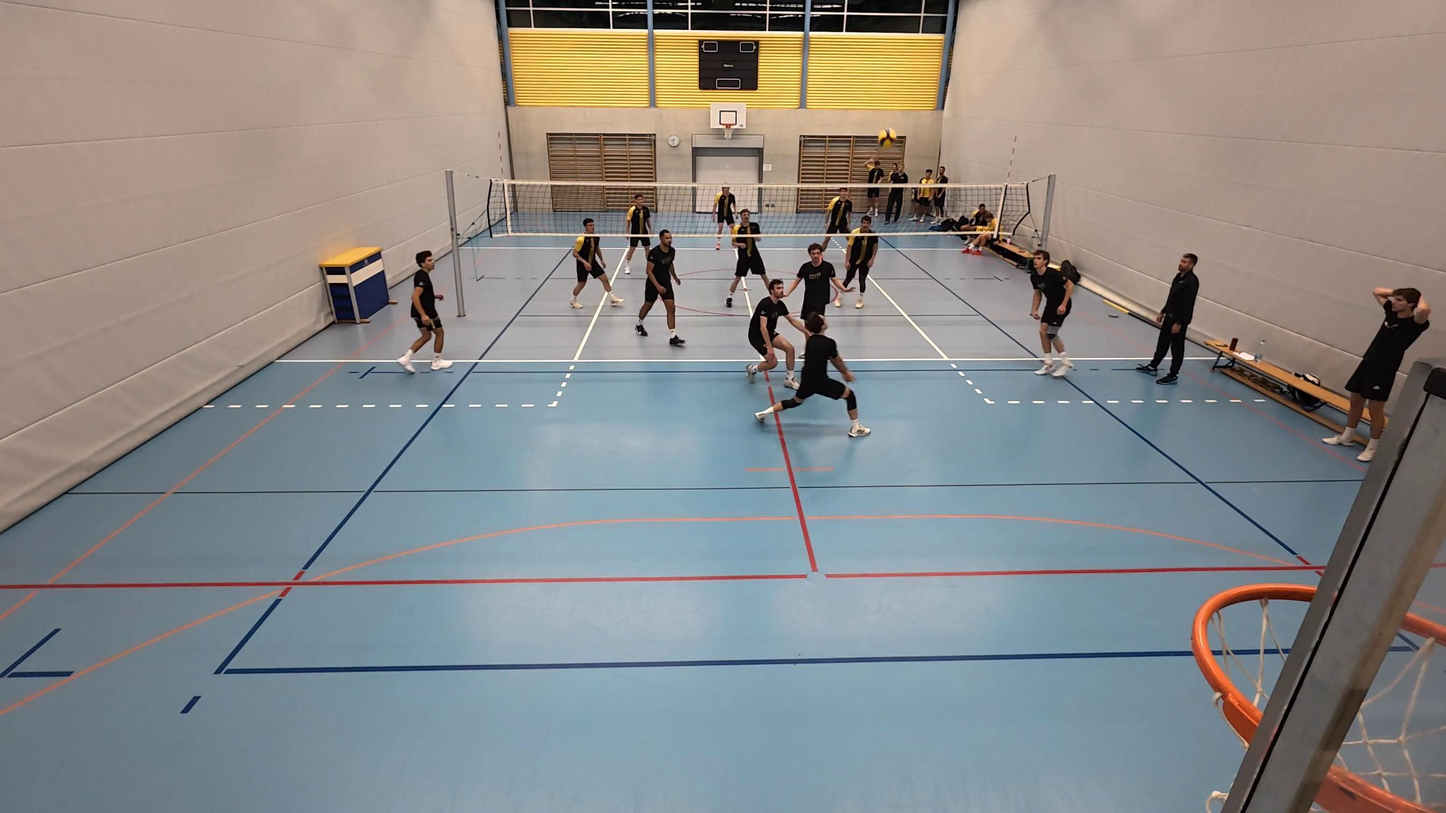Player: (756, 313, 870, 437), (399, 251, 450, 374), (1027, 248, 1073, 377), (635, 229, 685, 347), (745, 276, 795, 384), (570, 219, 622, 310), (789, 241, 839, 329), (725, 210, 769, 308), (836, 216, 878, 309), (621, 192, 655, 275), (821, 188, 853, 252), (712, 183, 738, 252)
ball: (878, 129, 895, 143)
